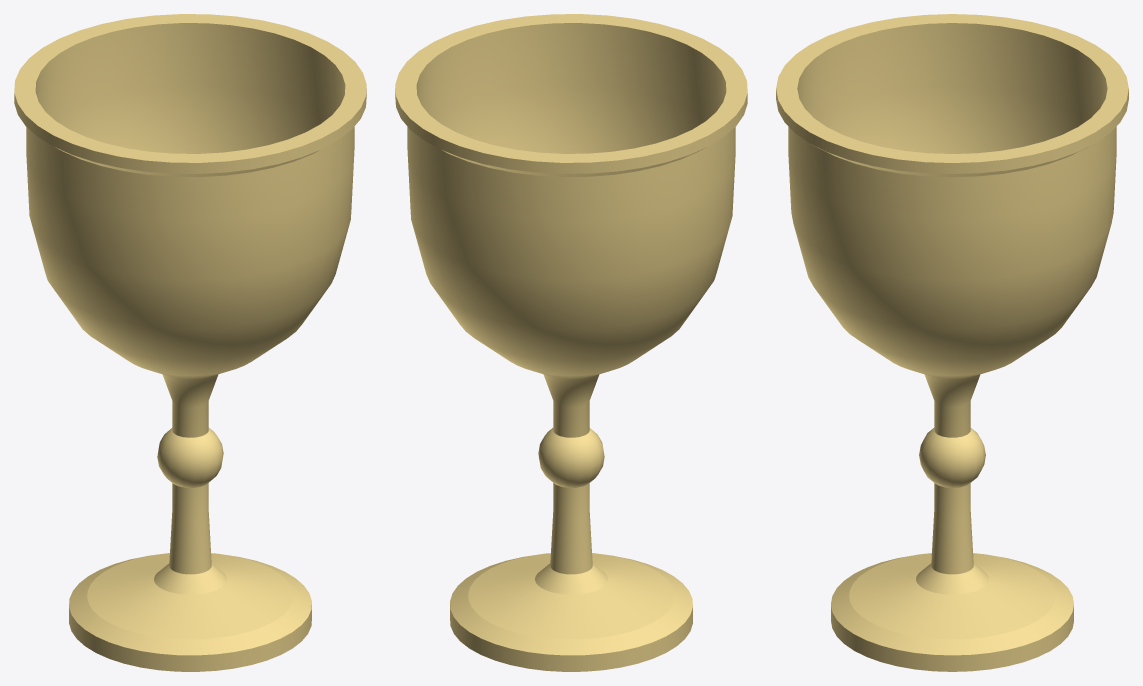
The model's file is goblet.glb.
3 renders of one model, left to right at view 1: azimuth 30°, elevation 25°; view 2: azimuth 150°, elevation 25°; view 3: azimuth 270°, elevation 25°, orthographic.
Visible parts, largest first — view 1: goblet; view 2: goblet; view 3: goblet.
Boxes of the visible parts, x1,y1,x2,y2 form: goblet: [14, 14, 366, 671]; goblet: [395, 14, 747, 671]; goblet: [776, 14, 1128, 671].
Size of the model in its own units: 0.58 by 0.965 by 0.58.
